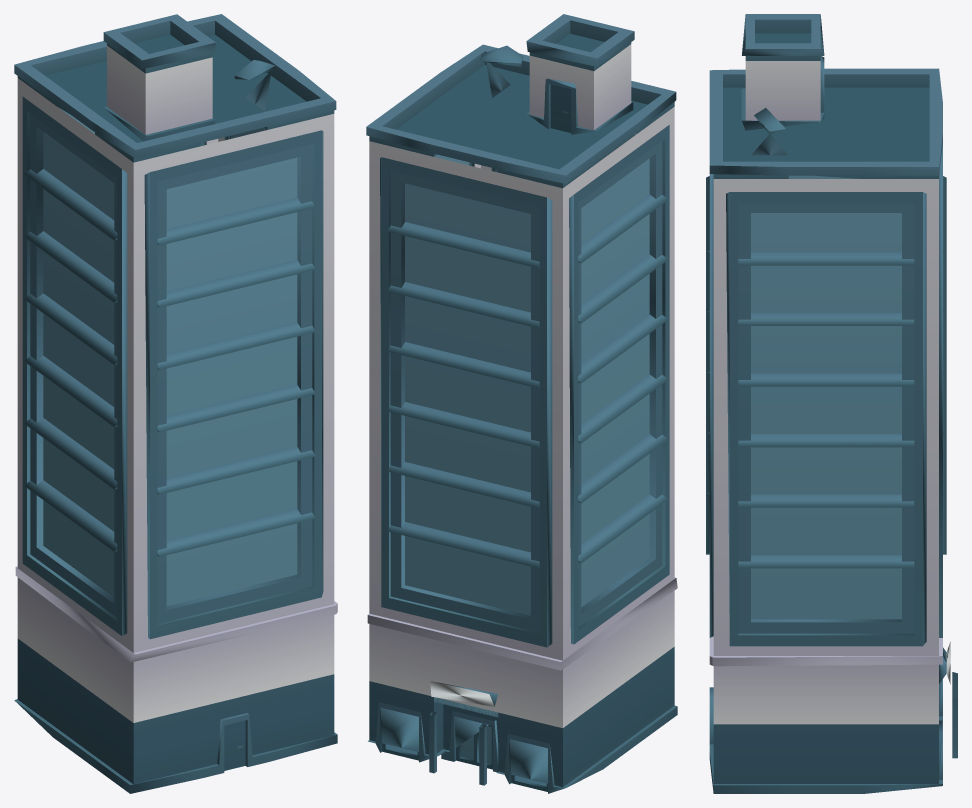
Rendered from tour-c.lod1.glb.
The picture shows the model from 3 angles, left to right: view 1: azimuth 30°, elevation 25°; view 2: azimuth 150°, elevation 25°; view 3: azimuth 270°, elevation 25°; orthographic projection. The views are drawn at different scales.
Visible parts, largest first — view 1: building-skyscraper-c; view 2: building-skyscraper-c; view 3: building-skyscraper-c.
Part boxes in pixels (left/top/right/bottom): building-skyscraper-c: left=14, top=14, right=337, bottom=793; building-skyscraper-c: left=366, top=14, right=677, bottom=793; building-skyscraper-c: left=706, top=14, right=957, bottom=793.
Size of the model in its own units: 65.89 by 210 by 68.97.
1 material, 1 textured.
